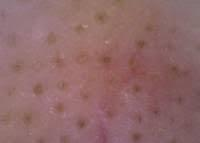blackhead: (86, 43, 132, 78), (30, 78, 48, 110), (151, 102, 170, 125)
